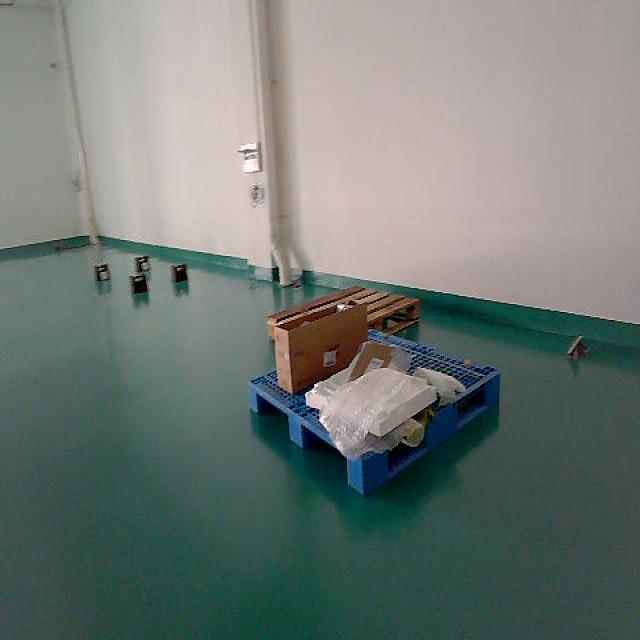euro: (268, 287, 419, 339)
